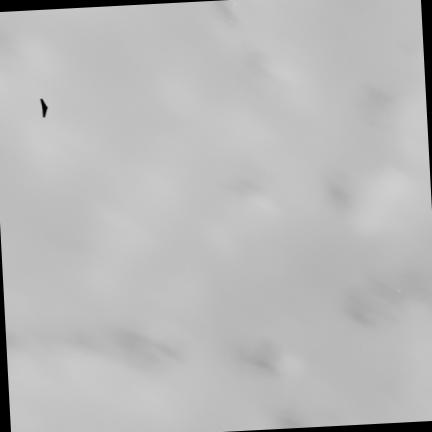Shahed: (40, 98, 47, 116)
